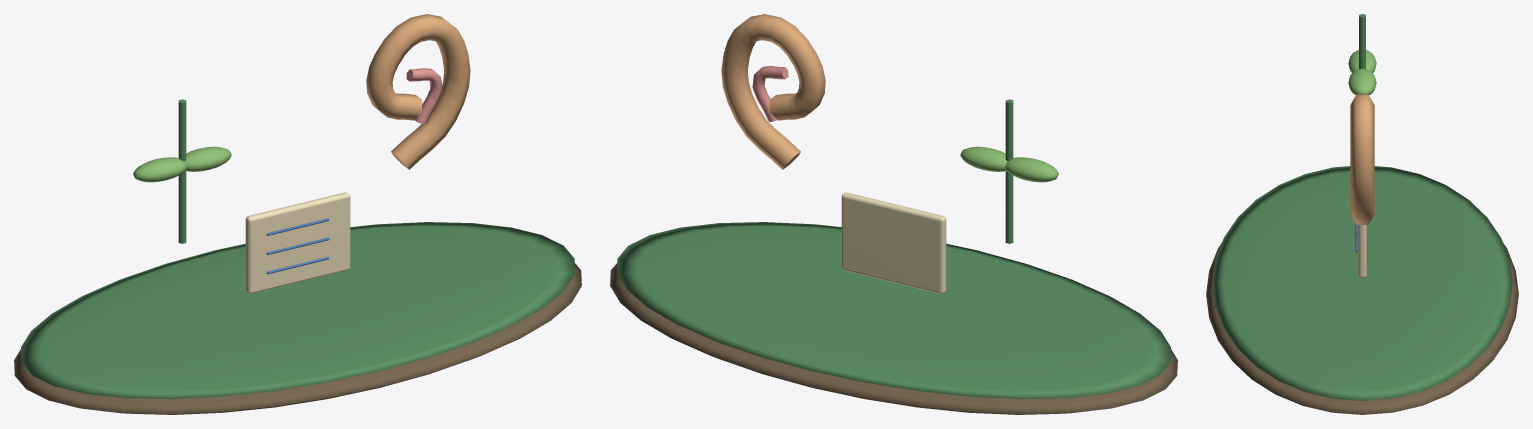
The model's file is complete-first-newly-heard-news.glb.
The picture shows the model from 3 angles, left to right: view 1: azimuth 30°, elevation 25°; view 2: azimuth 150°, elevation 25°; view 3: azimuth 270°, elevation 25°; orthographic projection. The views are drawn at different scales.
Visible parts, largest first — view 1: complete-first-newly-heard-news_surface_01, complete-first-newly-heard-news_surface_00, complete-first-newly-heard-news_surface_03, complete-first-newly-heard-news_surface_05, complete-first-newly-heard-news_surface_02, complete-first-newly-heard-news_surface_04, complete-first-newly-heard-news_surface_06; view 2: complete-first-newly-heard-news_surface_01, complete-first-newly-heard-news_surface_00, complete-first-newly-heard-news_surface_05, complete-first-newly-heard-news_surface_03, complete-first-newly-heard-news_surface_02, complete-first-newly-heard-news_surface_04; view 3: complete-first-newly-heard-news_surface_01, complete-first-newly-heard-news_surface_00, complete-first-newly-heard-news_surface_03, complete-first-newly-heard-news_surface_02, complete-first-newly-heard-news_surface_05.
Boxes of the visible parts, left/top/right/bottom form: complete-first-newly-heard-news_surface_01: left=21, top=99, right=574, bottom=399; complete-first-newly-heard-news_surface_00: left=14, top=263, right=581, bottom=414; complete-first-newly-heard-news_surface_03: left=366, top=14, right=470, bottom=169; complete-first-newly-heard-news_surface_05: left=245, top=192, right=350, bottom=293; complete-first-newly-heard-news_surface_02: left=133, top=146, right=231, bottom=182; complete-first-newly-heard-news_surface_04: left=406, top=68, right=442, bottom=124; complete-first-newly-heard-news_surface_06: left=266, top=218, right=329, bottom=274; complete-first-newly-heard-news_surface_01: left=617, top=99, right=1170, bottom=399; complete-first-newly-heard-news_surface_00: left=610, top=263, right=1177, bottom=414; complete-first-newly-heard-news_surface_05: left=841, top=192, right=946, bottom=293; complete-first-newly-heard-news_surface_03: left=721, top=14, right=825, bottom=169; complete-first-newly-heard-news_surface_02: left=960, top=146, right=1058, bottom=182; complete-first-newly-heard-news_surface_04: left=752, top=66, right=788, bottom=121; complete-first-newly-heard-news_surface_01: left=1212, top=14, right=1512, bottom=400; complete-first-newly-heard-news_surface_00: left=1206, top=243, right=1518, bottom=414; complete-first-newly-heard-news_surface_03: left=1350, top=94, right=1374, bottom=224; complete-first-newly-heard-news_surface_02: left=1348, top=50, right=1376, bottom=94; complete-first-newly-heard-news_surface_05: left=1358, top=225, right=1366, bottom=278.
Bounding box in the file's own units: 4.56 × 2.33 × 2.5.
